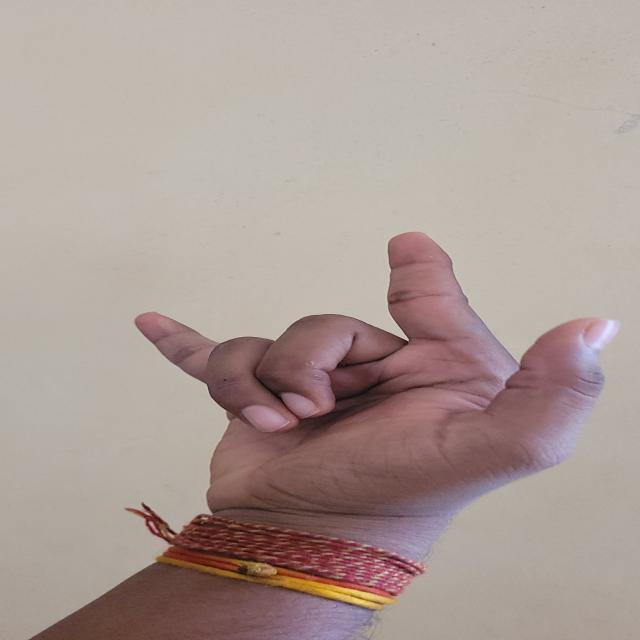i like you: (54, 215, 627, 510)
